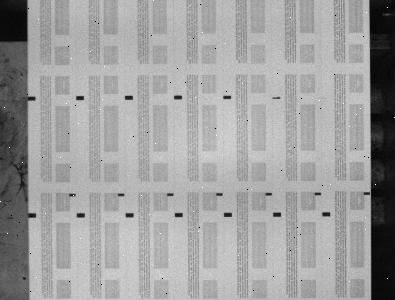incorrect qblock: (272, 96, 281, 99)
qblock: (28, 213, 36, 218), (27, 96, 35, 101), (125, 95, 133, 100), (77, 213, 85, 218), (273, 212, 281, 217), (224, 212, 232, 217), (322, 212, 331, 216), (125, 213, 134, 217), (174, 213, 183, 217), (223, 95, 231, 99), (76, 96, 84, 100), (174, 95, 182, 99)
smallqblock: (69, 193, 76, 197), (167, 193, 174, 196), (216, 193, 223, 196), (118, 193, 124, 196), (266, 192, 272, 195), (315, 192, 321, 195), (364, 192, 370, 195)
